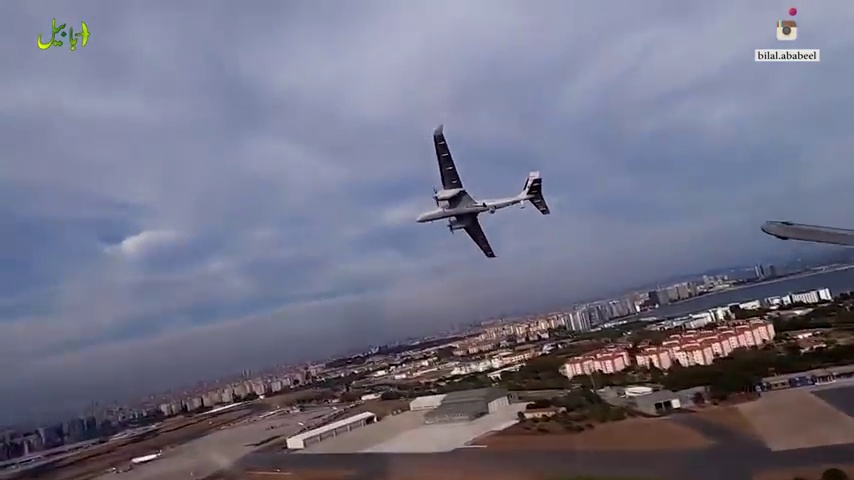military drone: (415, 121, 550, 258)
